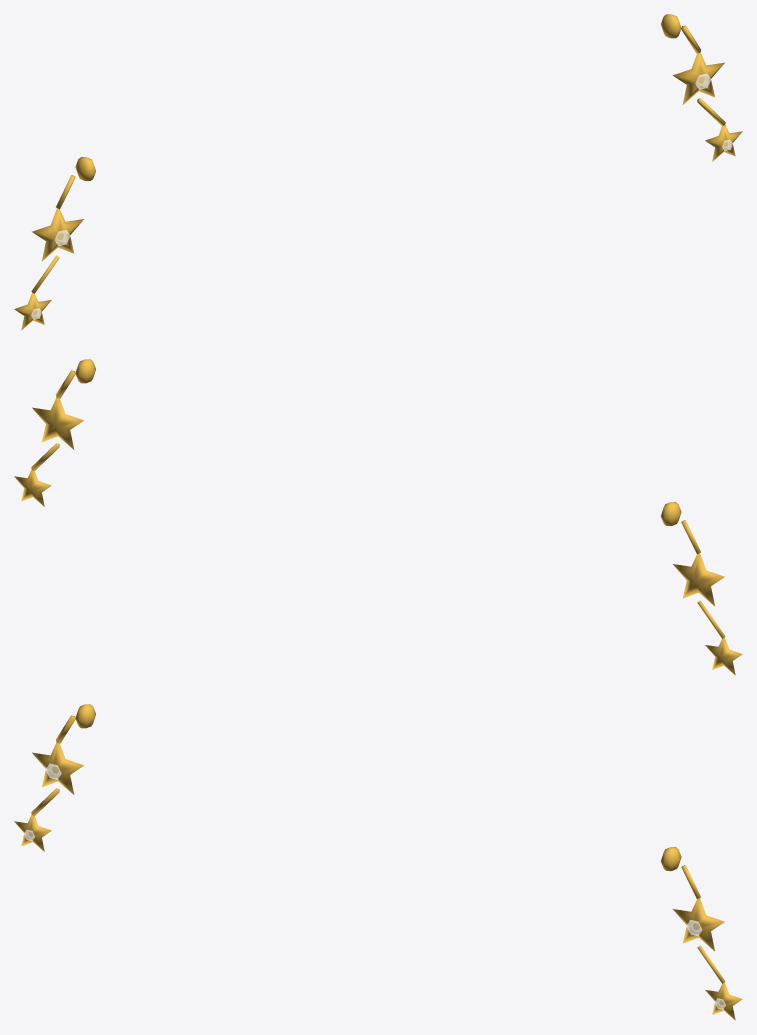
File: star_drop_earrings.glb
3 renders of one model, top to bottom at view 1: azimuth 30°, elevation 25°; view 2: azimuth 150°, elevation 25°; view 3: azimuth 330°, elevation 25°, orthographic.
Visible parts, largest first — view 1: star_drop_earrings; view 2: star_drop_earrings; view 3: star_drop_earrings.
Part boxes in pixels (x1,y1,x2,y2): star_drop_earrings: (14,14,742,330); star_drop_earrings: (14,359,742,675); star_drop_earrings: (14,704,742,1020).
Size of the model in its own units: 0.2555 by 0.0529 by 0.0081.
